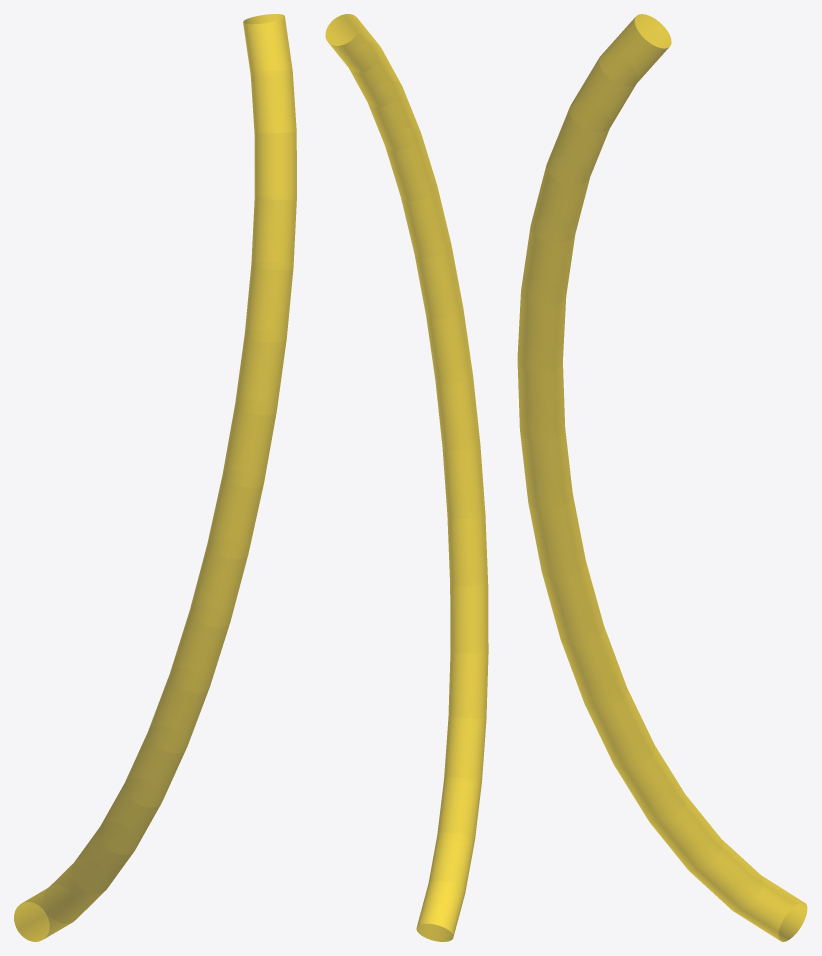
File: Event_402970704_track_49.fbx
The picture shows the model from 3 angles, left to right: view 1: azimuth 30°, elevation 25°; view 2: azimuth 150°, elevation 25°; view 3: azimuth 270°, elevation 25°; orthographic projection. The views are drawn at different scales.
Parts seen in each view (by area): view 1: Model; view 2: Model; view 3: Model.
Boxes of the visible parts, box(x1,y1,x2,y2) form: Model: box(14, 14, 296, 941); Model: box(325, 14, 488, 941); Model: box(517, 14, 807, 941).
Size of the model in its own units: 0.2217 by 0.9759 by 0.2547.
